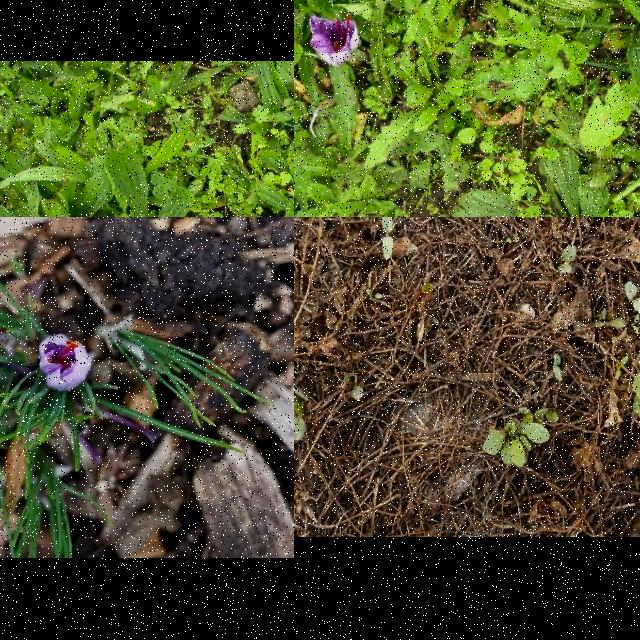flower: (38, 334, 94, 392), (308, 14, 359, 68)
